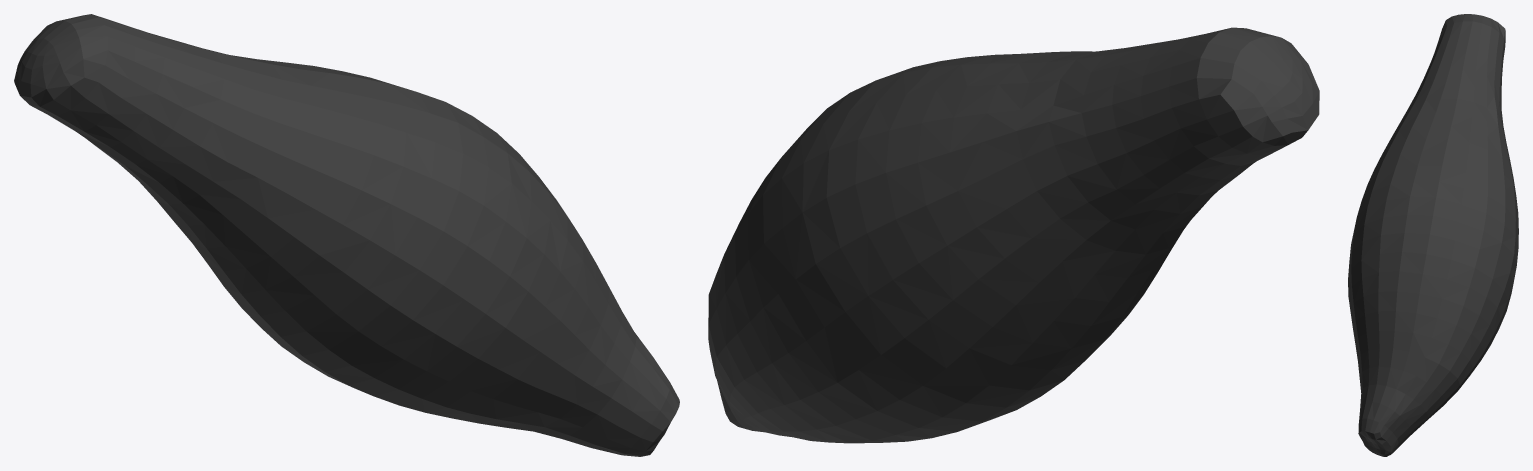
The model's file is MUSCLE_tensor_tympani_L.glb.
3 renders of one model, left to right at view 1: azimuth 30°, elevation 25°; view 2: azimuth 150°, elevation 25°; view 3: azimuth 270°, elevation 25°, orthographic. The views are drawn at different scales.
Parts seen in each view (by area): view 1: MUSCLE_tensor_tympani_L; view 2: MUSCLE_tensor_tympani_L; view 3: MUSCLE_tensor_tympani_L.
Boxes of the visible parts, x1,y1,x2,y2 form: MUSCLE_tensor_tympani_L: (14,14,679,456); MUSCLE_tensor_tympani_L: (708,27,1319,443); MUSCLE_tensor_tympani_L: (1348,14,1518,456).
Size of the model in its own units: 1.65 by 1.36 by 0.7076.
Materials: 1 (1 with a texture image).
